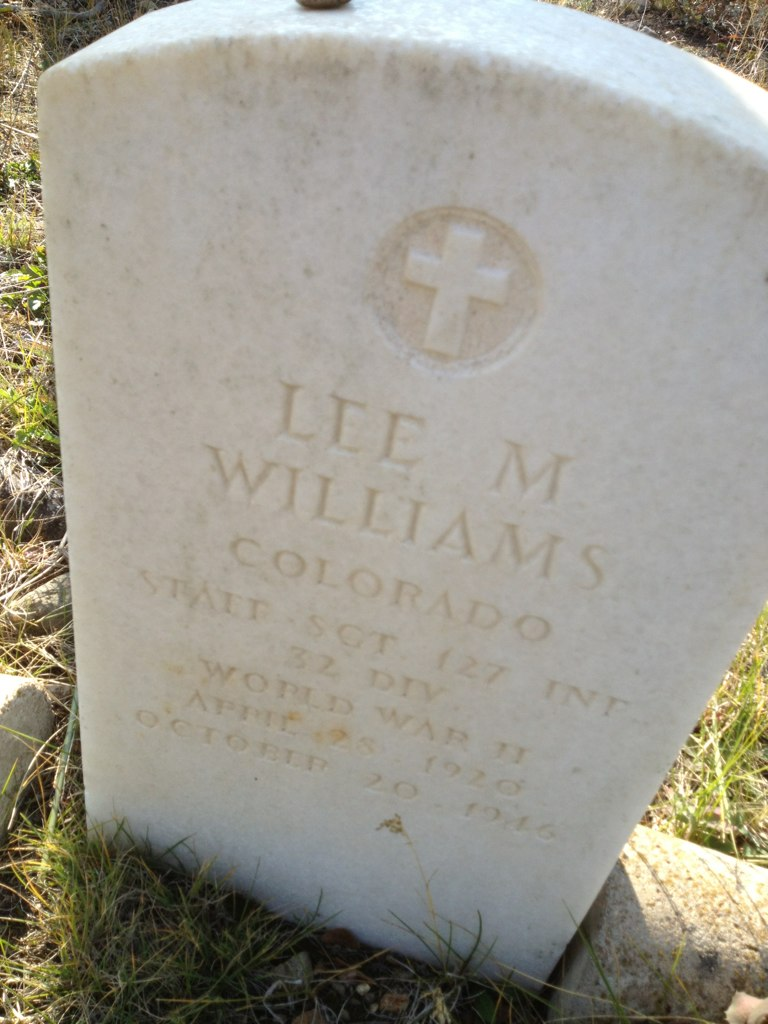military: (31, 9, 768, 993)
